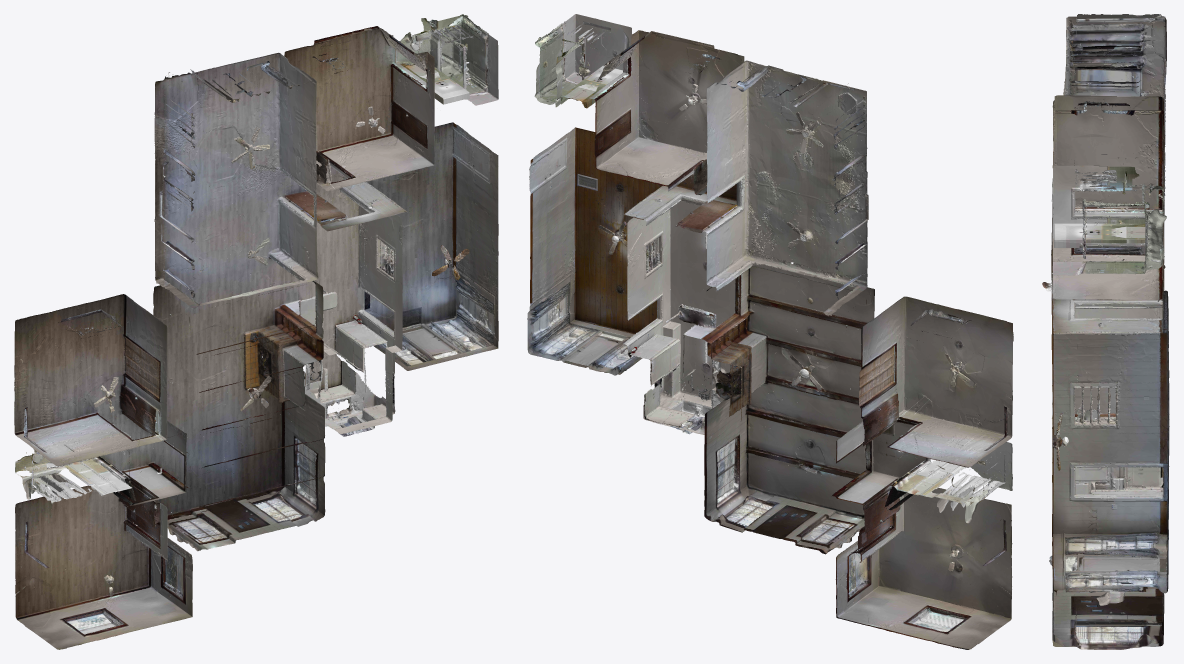
3 views of the same model, side by side, from view 1: azimuth 30°, elevation 25°; view 2: azimuth 150°, elevation 25°; view 3: azimuth 270°, elevation 25° (orthographic). The views are drawn at different scales.
Bounding box in the file's own units: 15.13 × 16.63 × 2.94.
29 materials, 29 textured.
